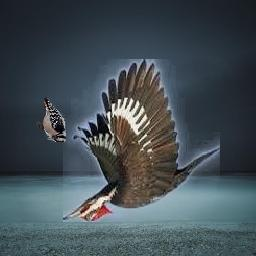Woodpecker: (64, 60, 221, 223), (36, 98, 66, 143)
